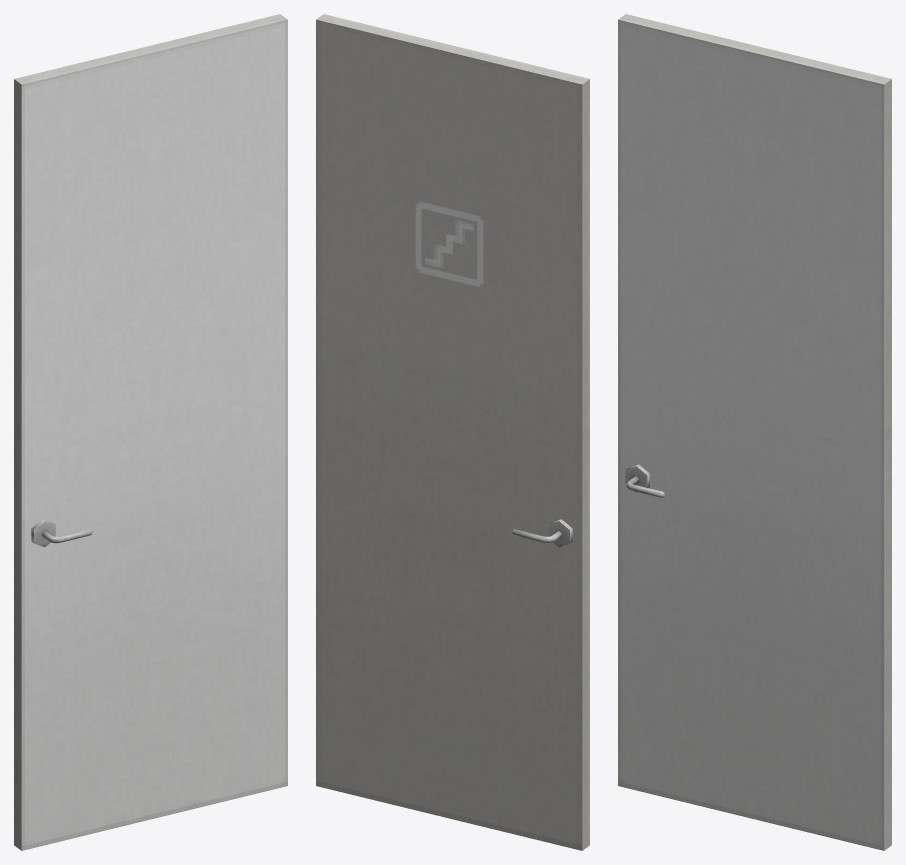
Rendered from DoorStairs.glb.
3 renders of one model, left to right at view 1: azimuth 30°, elevation 25°; view 2: azimuth 150°, elevation 25°; view 3: azimuth 330°, elevation 25°, orthographic.
Visible parts, largest first — view 1: door stairs; view 2: door stairs; view 3: door stairs.
Part boxes in pixels (x1,y1,x2,y2): door stairs: (14,14,287,850); door stairs: (316,14,589,850); door stairs: (618,14,891,850).
Size of the model in its own units: 0.8 by 2.2 by 0.1789.
2 materials, 2 textured.
